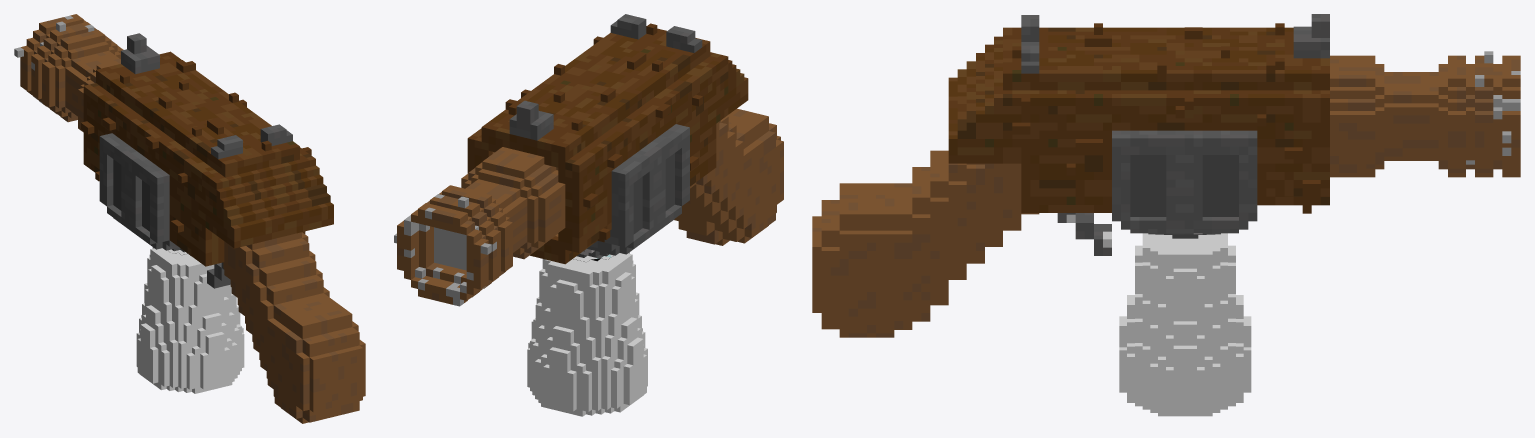
Rendered from Salt_Gun_Combined.fbx.
3 views of the same model, side by side, from view 1: azimuth 30°, elevation 25°; view 2: azimuth 150°, elevation 25°; view 3: azimuth 270°, elevation 25° (orthographic). The views are drawn at different scales.
Visible parts, largest first — view 1: Salt_Gun_Combined; view 2: Salt_Gun_Combined; view 3: Salt_Gun_Combined.
Boxes of the visible parts, x1,y1,x2,y2 form: Salt_Gun_Combined: (14,14,365,423); Salt_Gun_Combined: (394,14,783,416); Salt_Gun_Combined: (812,14,1520,416).
Bounding box in the file's own units: 20.27 × 46.69 × 79.05.
Materials: 5 (2 with a texture image).
